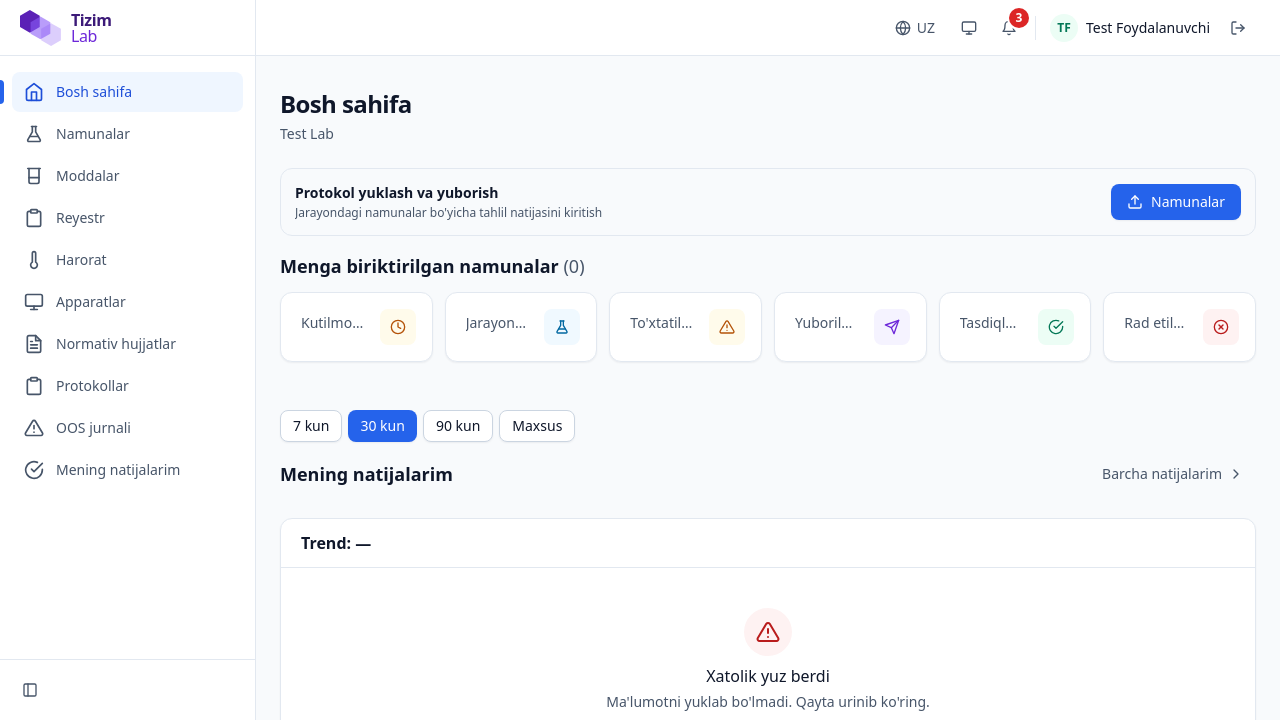
NotificationBell (R-NOTIF-13, R-NOTIF-25, R-NOTIF-26, R-NOTIF-27) › o'qilmaganlar soni badge'da; ochilganda ro'yxat joriy tilda
Expected: the text with test id "notification-badge" reads "3", [1016, 8, 1022, 26]
Click the button named "Bildirishnomalar".
click(1009, 28)  # box [991, 10, 1027, 46]
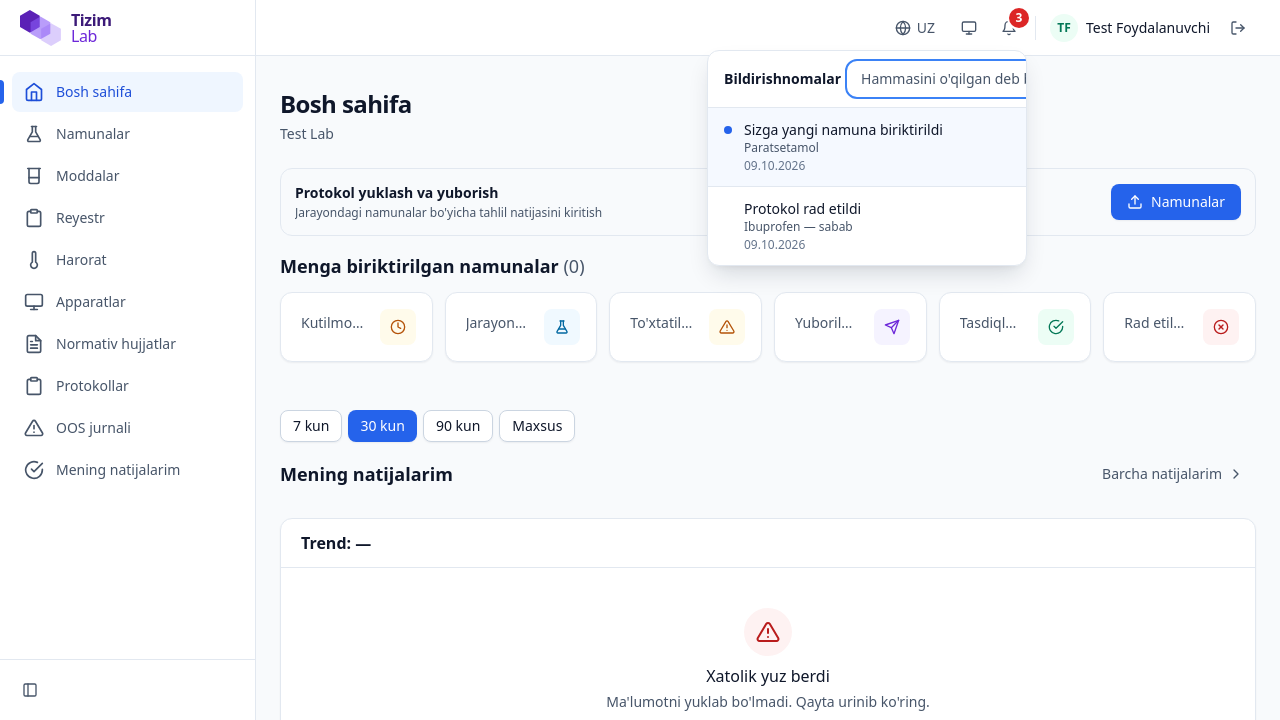
Expected: the text "Sizga yangi namuna biriktirildi" is shown, [744, 120, 943, 138]
Expected: the text "Protokol rad etildi" is shown, [744, 198, 861, 218]
Expected: the text "Ibuprofen — sabab" is shown, [744, 218, 853, 234]
